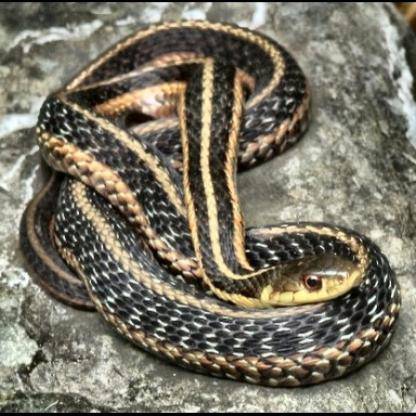Snake: (4, 12, 397, 384)
